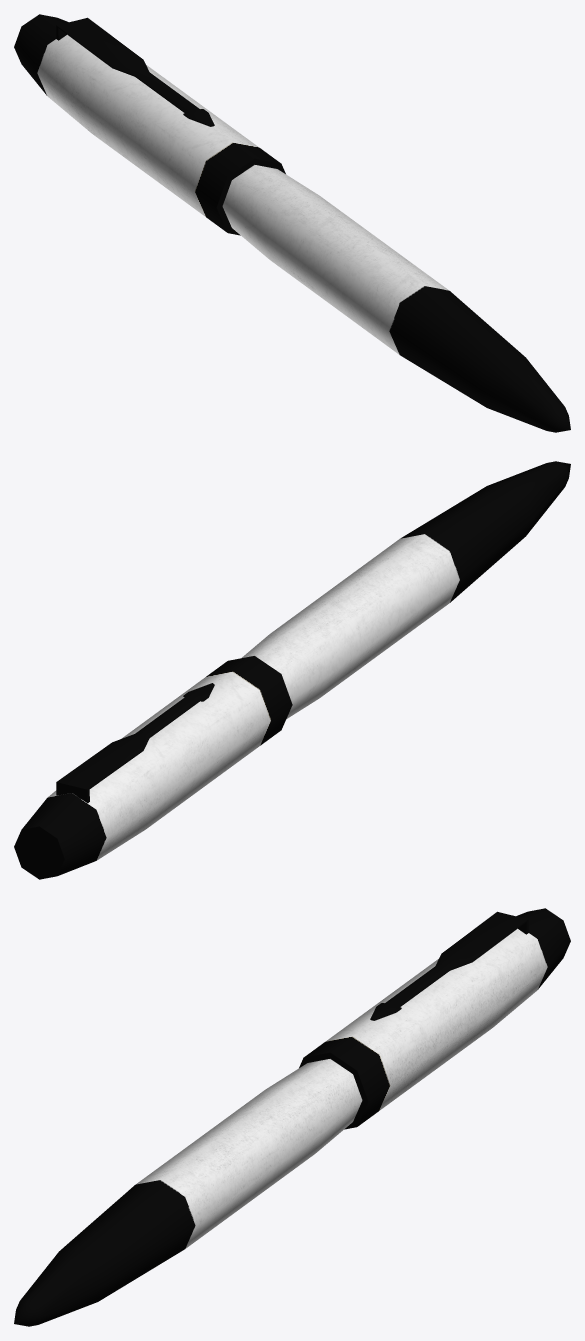
File: Pen.FBX
The picture shows the model from 3 angles, top to bottom: view 1: azimuth 30°, elevation 25°; view 2: azimuth 150°, elevation 25°; view 3: azimuth 330°, elevation 25°; orthographic projection.
Parts seen in each view (by area): view 1: Pen; view 2: Pen; view 3: Pen.
Boxes of the visible parts, bbox=[...] form: Pen: bbox=[14, 14, 570, 432]; Pen: bbox=[14, 461, 570, 879]; Pen: bbox=[14, 908, 570, 1326].
Size of the model in its own units: 0.4416 by 0.4827 by 5.34.
